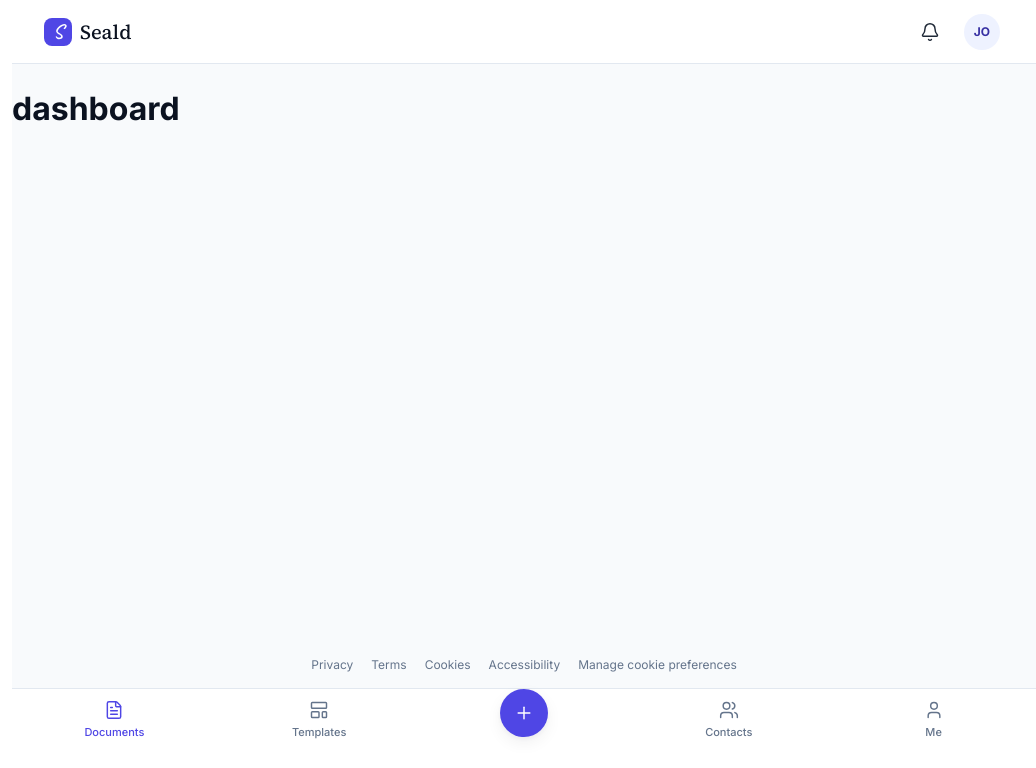
AppShell — mobile shell › the centre New button opens the new-document flow
Click the button named "New document": [524, 712] box [500,688,548,736]
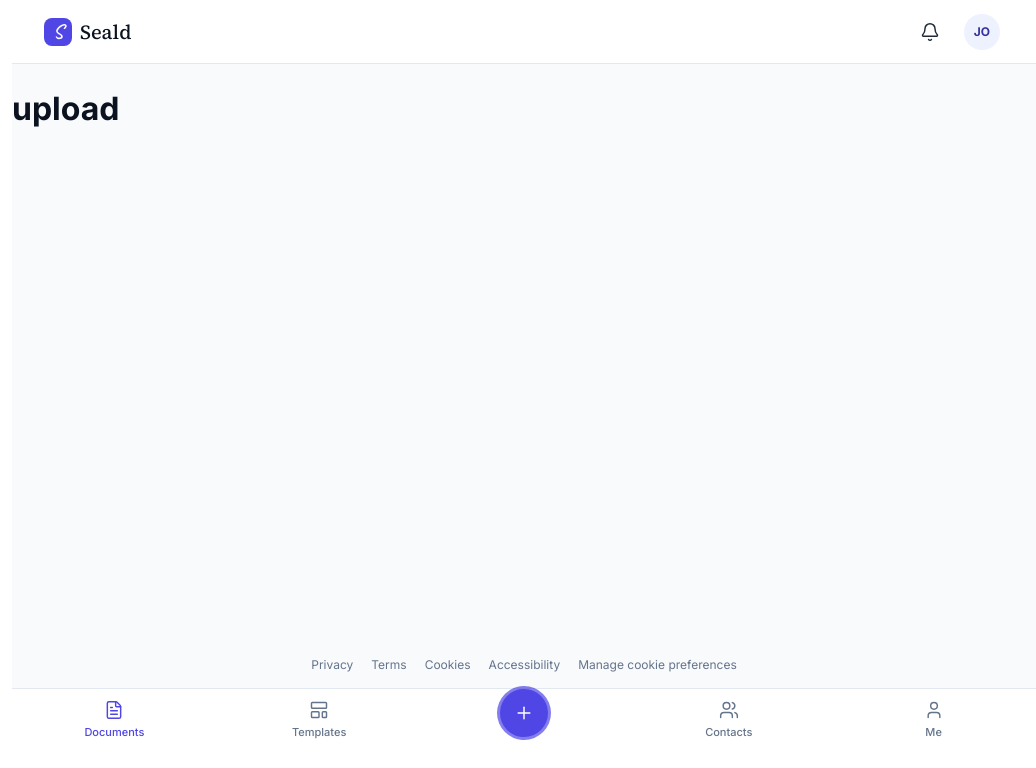
Result: the heading "upload" is shown at [12,89,120,128]
